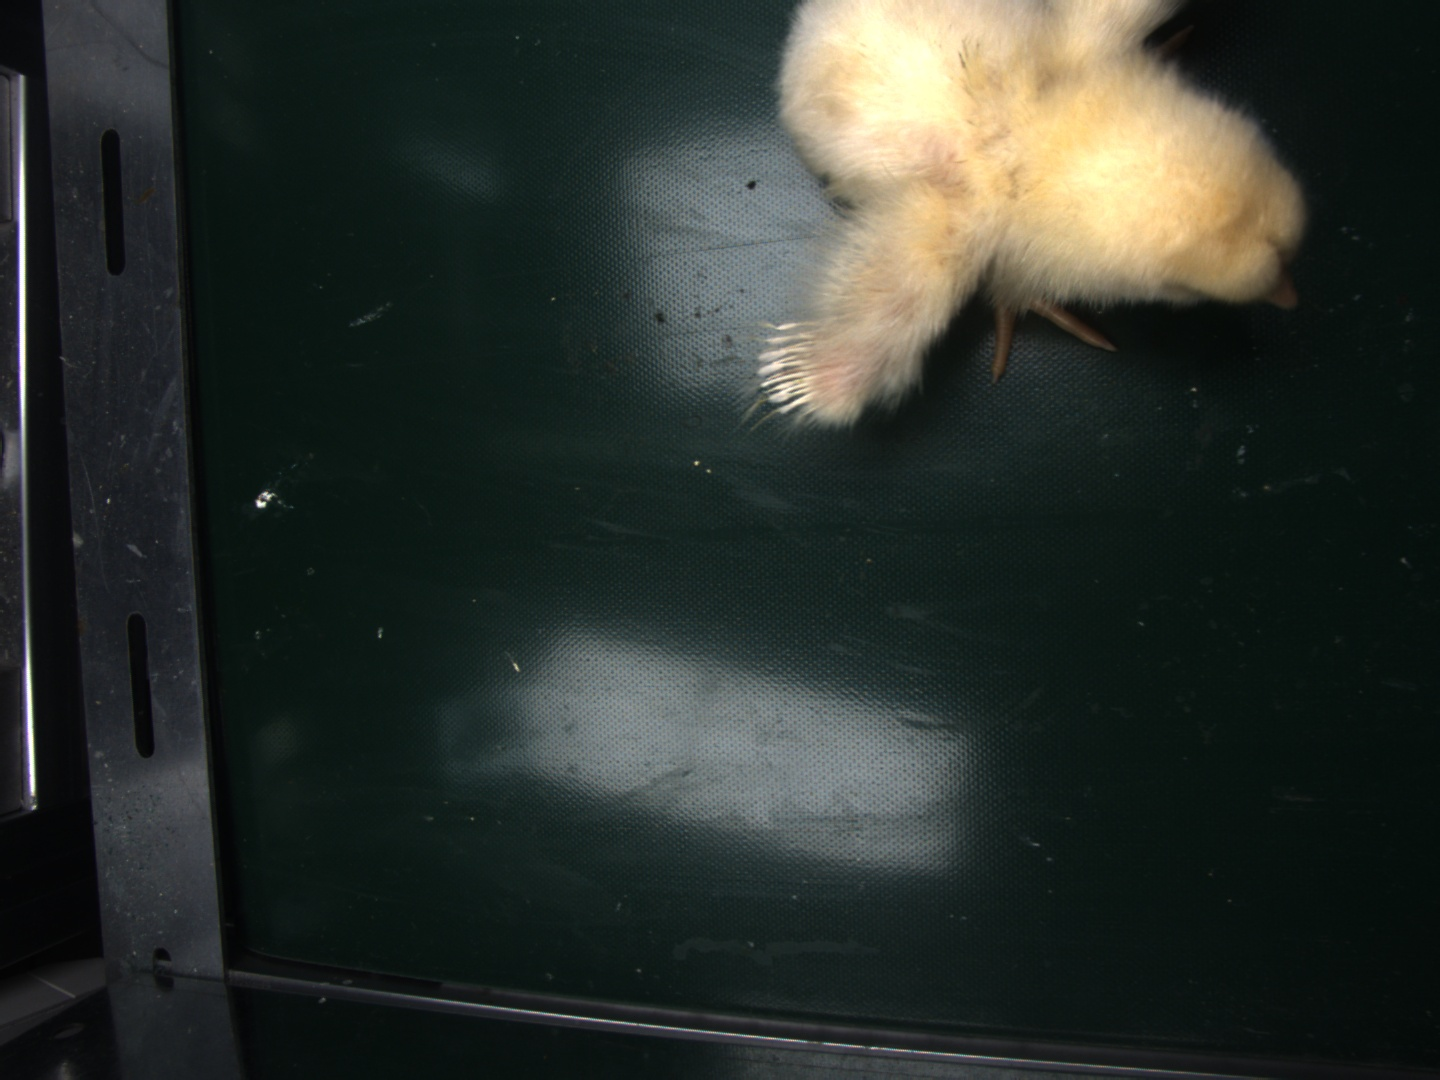male: (756, 315, 820, 417)
